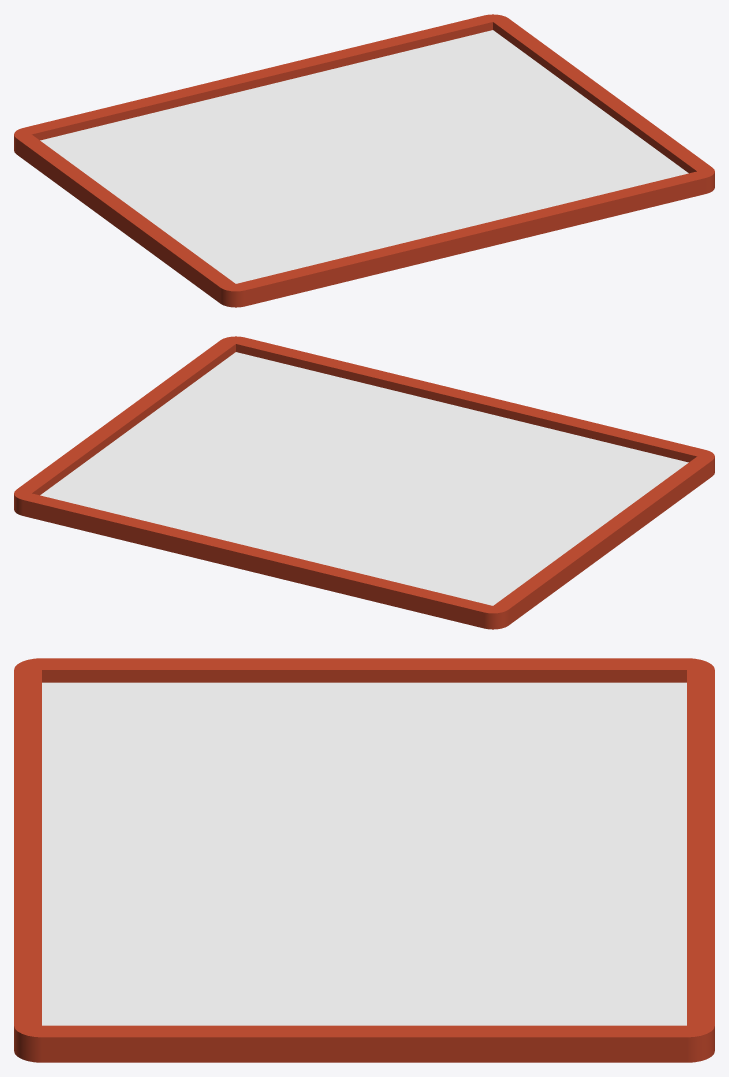
3 views of the same model, one above another, from view 1: azimuth 30°, elevation 25°; view 2: azimuth 150°, elevation 25°; view 3: azimuth 270°, elevation 25° (orthographic). The views are drawn at different scales.
Parts seen in each view (by area): view 1: map.002; view 2: map.002; view 3: map.002.
Boxes of the visible parts, x1,y1,x2,y2 form: map.002: (14,14,714,307); map.002: (14,336,714,629); map.002: (14,658,714,1062).
Bounding box in the file's own units: 16000 × 500 × 12500.
